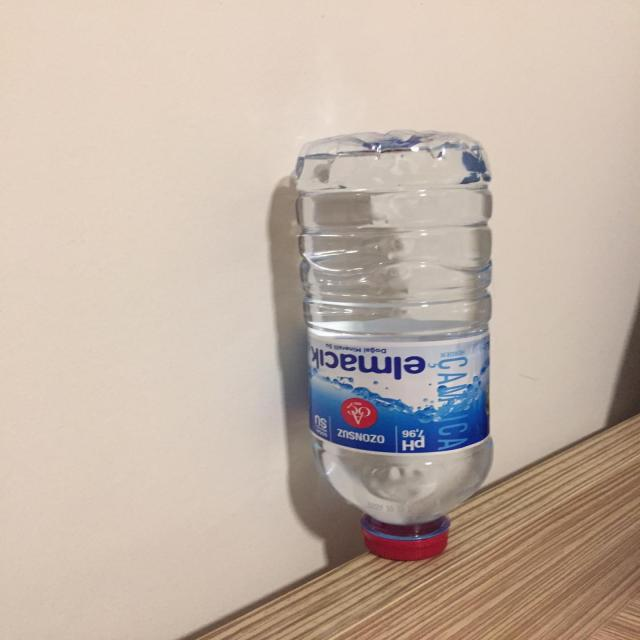bottle: (257, 131, 562, 615)
